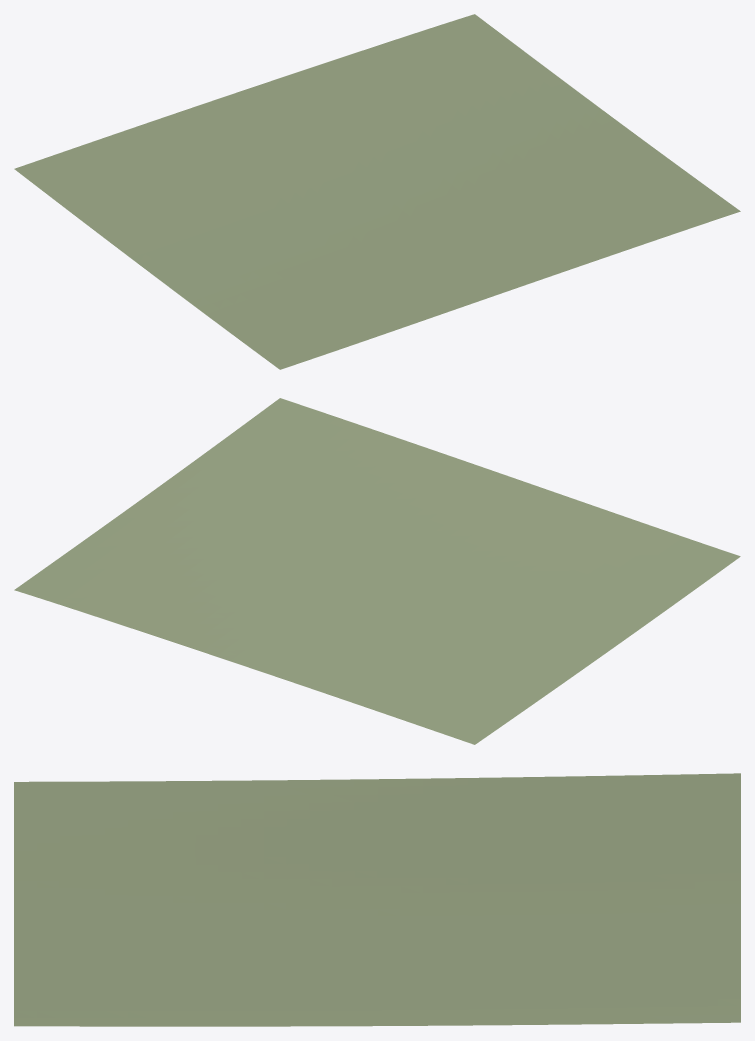
Rendered from desert-11-21.glb.
3 renders of one model, top to bottom at view 1: azimuth 30°, elevation 25°; view 2: azimuth 150°, elevation 25°; view 3: azimuth 270°, elevation 25°, orthographic. The views are drawn at different scales.
Parts seen in each view (by area): view 1: desert-11-21; view 2: desert-11-21; view 3: desert-11-21.
Part boxes in pixels (x1,y1,x2,y2): desert-11-21: (14,14,740,369); desert-11-21: (14,398,740,744); desert-11-21: (14,773,740,1026).
Size of the model in its own units: 512 by 51.6 by 512.
